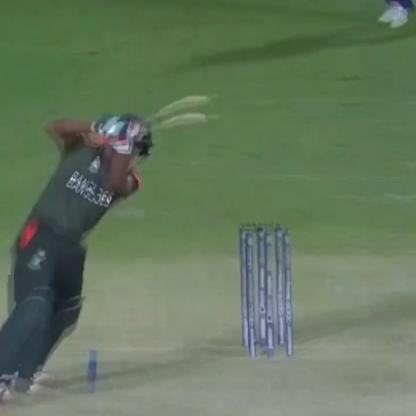bat: (113, 101, 220, 146)
